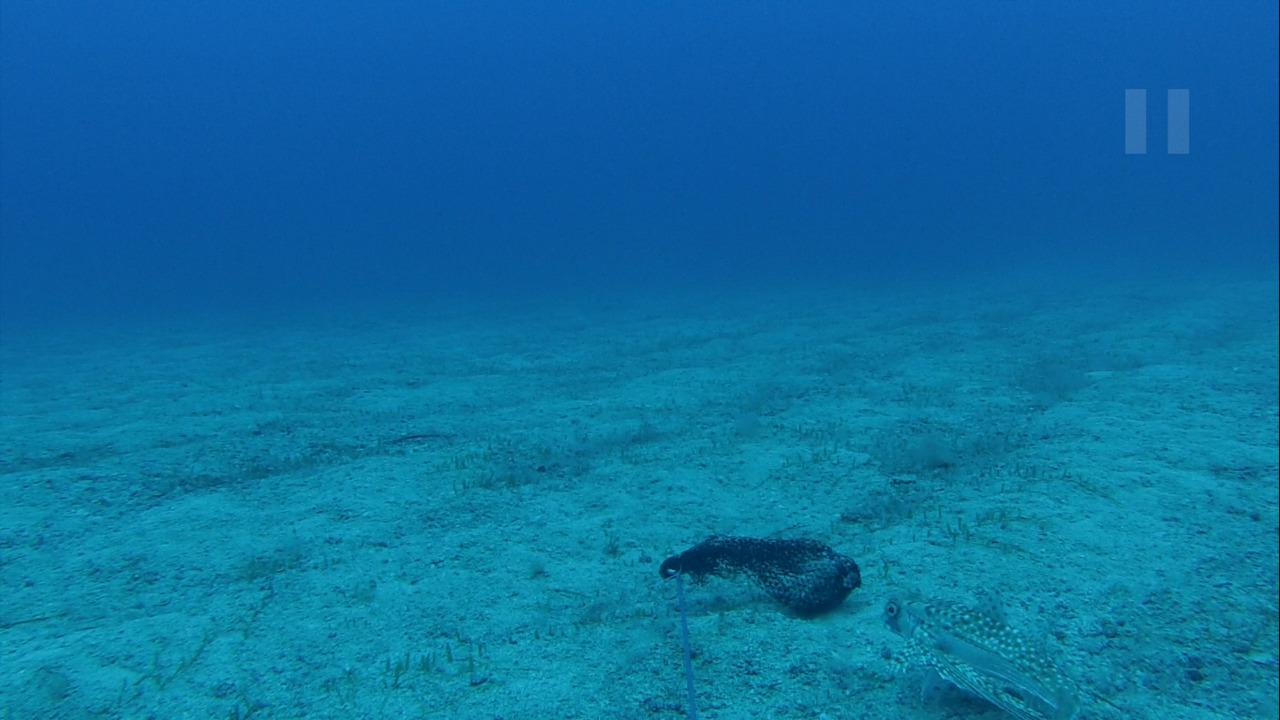dactylopterus: (870, 585, 1187, 719)
